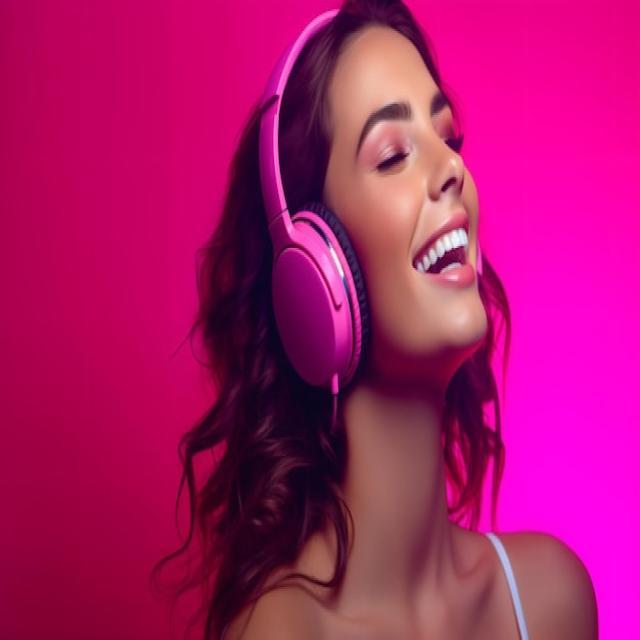Headphone: (254, 6, 373, 395)
